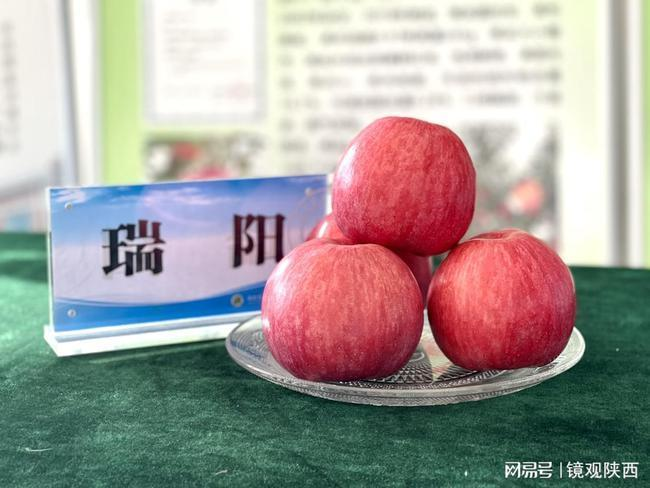apple: (259, 236, 428, 383), (424, 228, 578, 376), (330, 115, 476, 256)
